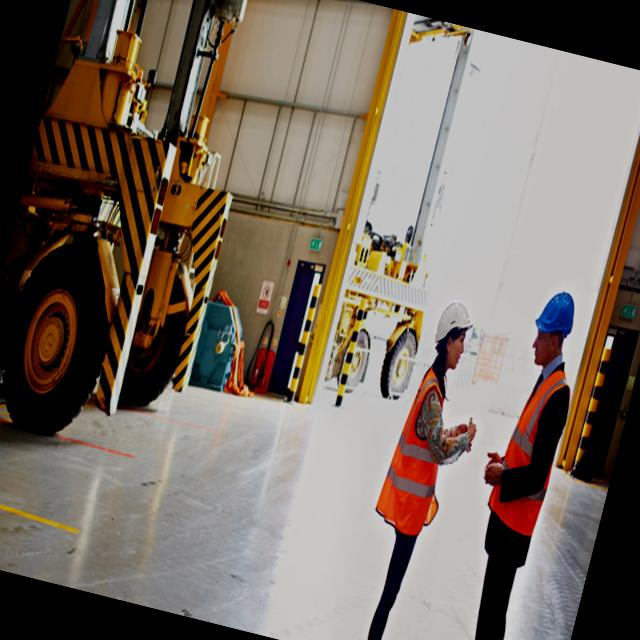helmet: (524, 273, 588, 344), (423, 280, 484, 346)
no-goggles: (524, 326, 557, 352), (447, 324, 475, 354)
vest: (374, 352, 476, 537), (476, 358, 582, 528)
